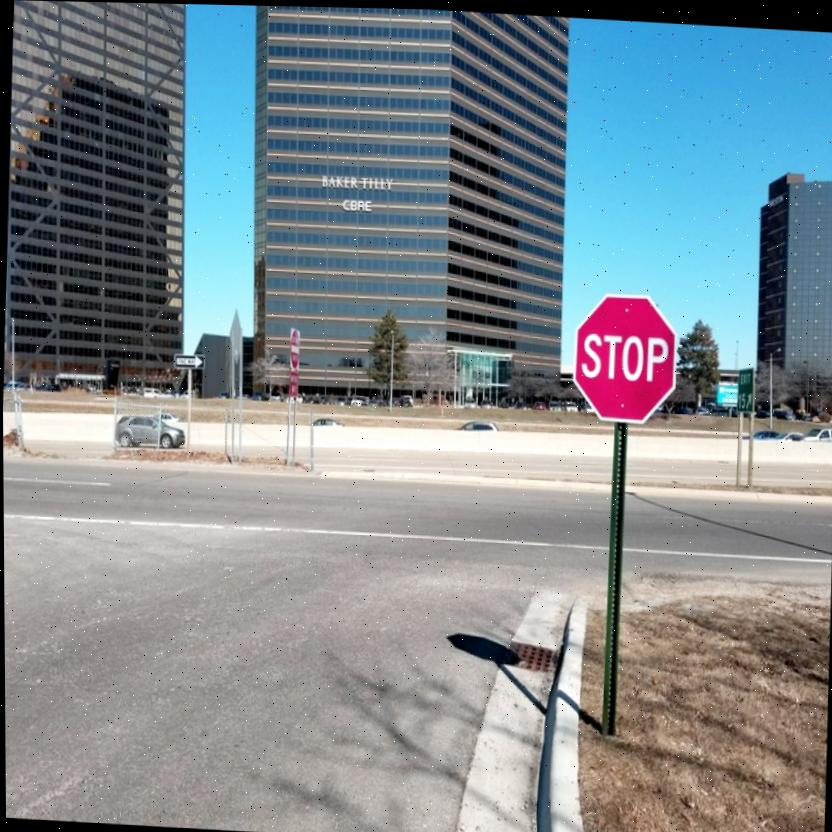Pole: (602, 426, 626, 731), (185, 369, 192, 458), (285, 397, 291, 466), (292, 397, 297, 464)
Sign: (571, 291, 677, 420)
